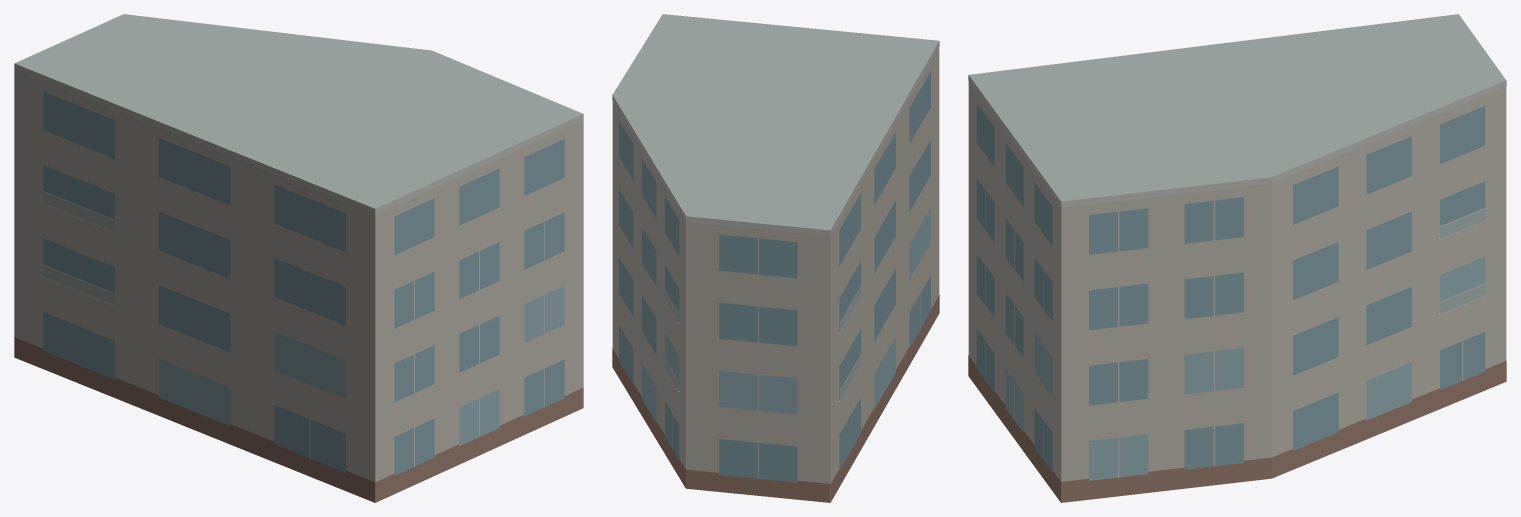
Rendered from survey-upis-32619839.glb.
The picture shows the model from 3 angles, left to right: view 1: azimuth 30°, elevation 25°; view 2: azimuth 150°, elevation 25°; view 3: azimuth 270°, elevation 25°; orthographic projection. The views are drawn at different scales.
Visible parts, largest first — view 1: survey-upis-32619839.tmp; view 2: survey-upis-32619839.tmp; view 3: survey-upis-32619839.tmp.
Part boxes in pixels (bbox=[...]): survey-upis-32619839.tmp: bbox=[14, 14, 583, 502]; survey-upis-32619839.tmp: bbox=[612, 14, 939, 502]; survey-upis-32619839.tmp: bbox=[968, 14, 1506, 502].
Size of the model in its own units: 15.63 by 11.7 by 18.94.
